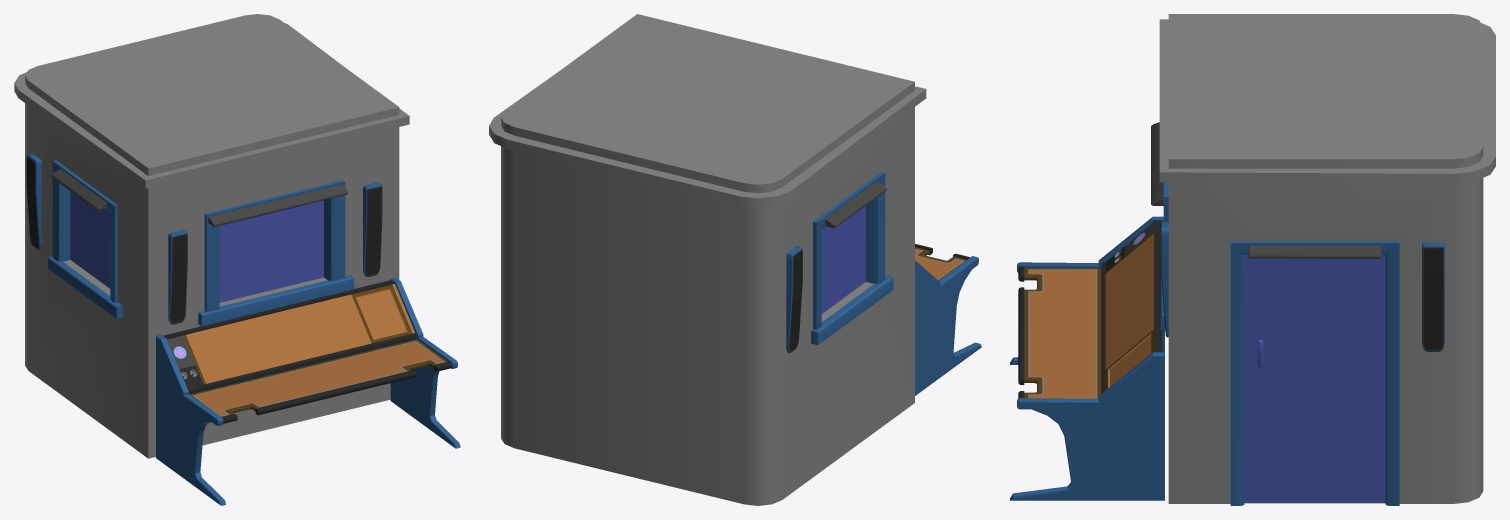
The model's file is Reception_bureau.fbx.
3 views of the same model, side by side, from view 1: azimuth 30°, elevation 25°; view 2: azimuth 150°, elevation 25°; view 3: azimuth 270°, elevation 25° (orthographic). The views are drawn at different scales.
Visible parts, largest first — view 1: Airport Reception; view 2: Airport Reception; view 3: Airport Reception.
Part boxes in pixels (x1=…): Airport Reception: x1=14, y1=14, x2=460, y2=505; Airport Reception: x1=489, y1=14, x2=981, y2=505; Airport Reception: x1=1010, y1=14, x2=1495, y2=505.
Bounding box in the file's own units: 6.37 × 6.39 × 8.16.
